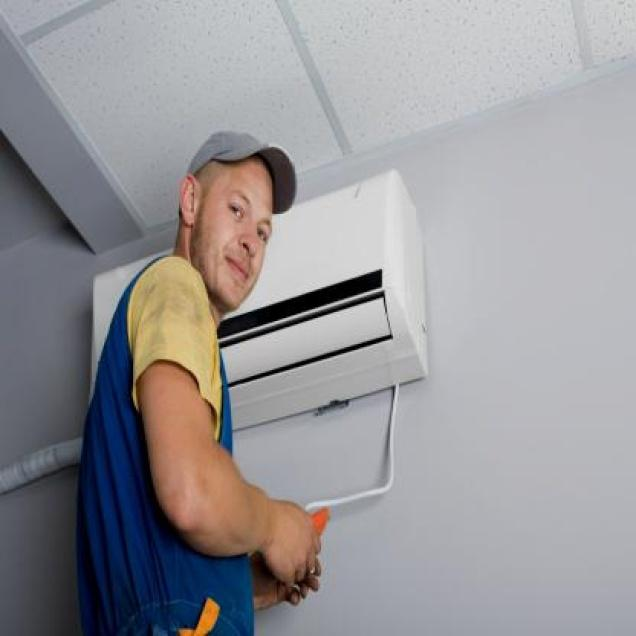AC: (215, 167, 424, 431)
